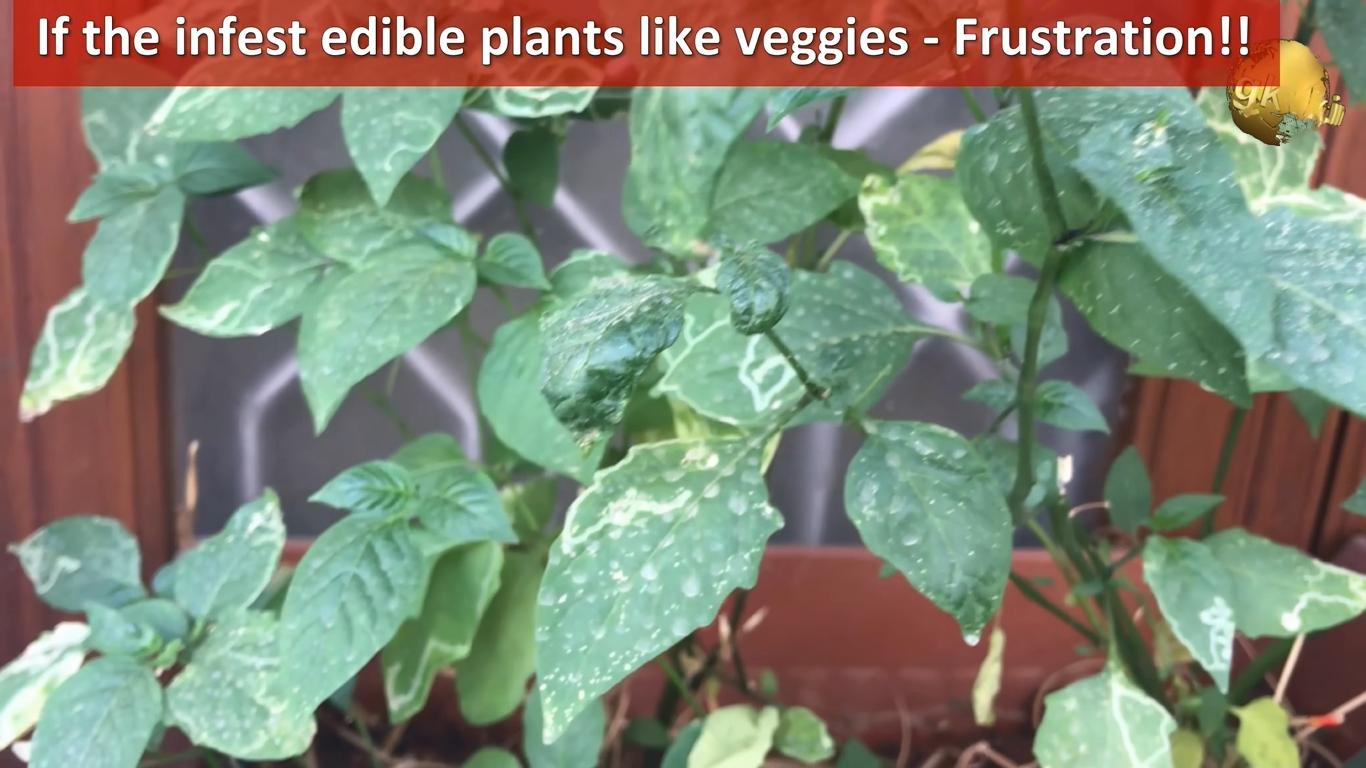Leaf_Miner: (531, 436, 787, 746), (537, 267, 689, 460), (1247, 183, 1366, 418), (379, 541, 506, 724), (654, 290, 809, 424), (1202, 524, 1366, 641), (158, 221, 319, 338), (153, 483, 289, 617), (855, 172, 992, 304), (14, 286, 140, 424), (341, 86, 471, 211), (1142, 532, 1237, 694), (1033, 668, 1178, 768), (9, 511, 143, 614), (0, 619, 94, 751)
